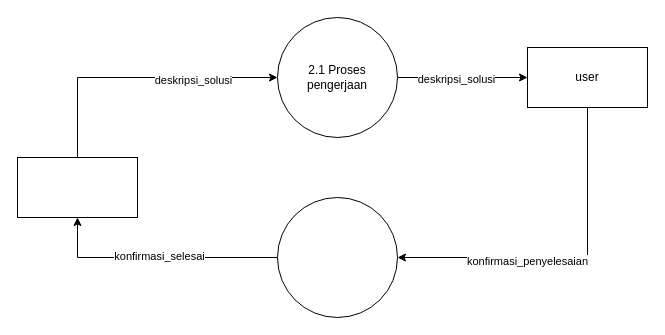
Some shapes in this 665 by 335 pixel diagram are drawn without their labels. The shapes that lost their labels are listed below. From the top down, each one's centre as x and y in pixels, then its label:
the point at 77,187: IT Support
the point at 337,257: 2.2 Proses Konfirmasi
